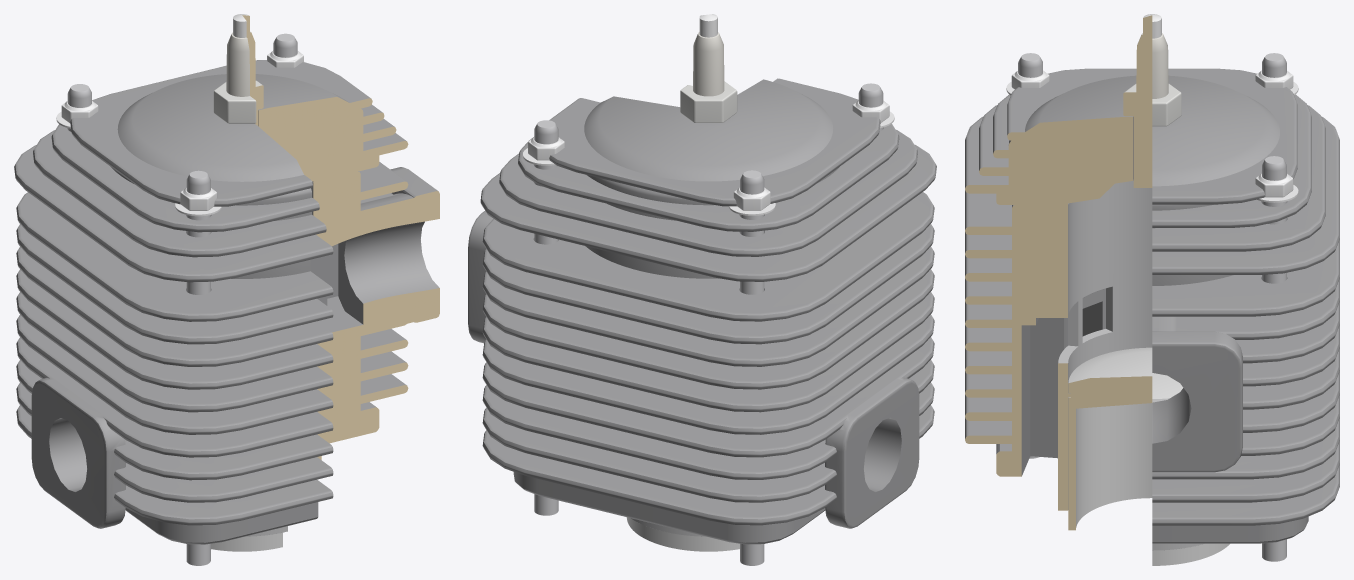
The model's file is port_ex.glb.
The picture shows the model from 3 angles, left to right: view 1: azimuth 30°, elevation 25°; view 2: azimuth 150°, elevation 25°; view 3: azimuth 270°, elevation 25°; orthographic projection. The views are drawn at different scales.
Parts seen in each view (by area): view 1: port_ex__barrel, port_ex__head, port_ex__spark_plug, port_ex__studs, port_ex__head_nuts, port_ex__piston, port_ex__liner; view 2: port_ex__barrel, port_ex__head, port_ex__spark_plug, port_ex__studs, port_ex__head_nuts, port_ex__piston; view 3: port_ex__barrel, port_ex__head, port_ex__liner, port_ex__piston, port_ex__spark_plug, port_ex__studs, port_ex__head_nuts.
Boxes of the visible parts, left/top/right/bottom form: port_ex__barrel: left=16, top=162, right=439, bottom=544; port_ex__head: left=14, top=60, right=408, bottom=282; port_ex__spark_plug: left=213, top=14, right=263, bottom=125; port_ex__studs: left=67, top=33, right=297, bottom=565; port_ex__head_nuts: left=56, top=51, right=305, bottom=216; port_ex__piston: left=211, top=532, right=282, bottom=551; port_ex__liner: left=245, top=180, right=321, bottom=536; port_ex__barrel: left=468, top=192, right=934, bottom=544; port_ex__head: left=480, top=78, right=936, bottom=281; port_ex__spark_plug: left=680, top=14, right=737, bottom=122; port_ex__studs: left=534, top=83, right=883, bottom=565; port_ex__head_nuts: left=523, top=100, right=894, bottom=215; port_ex__piston: left=626, top=517, right=739, bottom=551; port_ex__barrel: left=965, top=190, right=1339, bottom=543; port_ex__head: left=965, top=68, right=1339, bottom=274; port_ex__liner: left=1058, top=179, right=1204, bottom=550; port_ex__piston: left=1068, top=347, right=1229, bottom=565; port_ex__spark_plug: left=1123, top=14, right=1181, bottom=187; port_ex__studs: left=1018, top=53, right=1286, bottom=561; port_ex__head_nuts: left=1006, top=70, right=1298, bottom=202.
Bounding box in the file's own units: 14.1 × 18.2 × 12.
